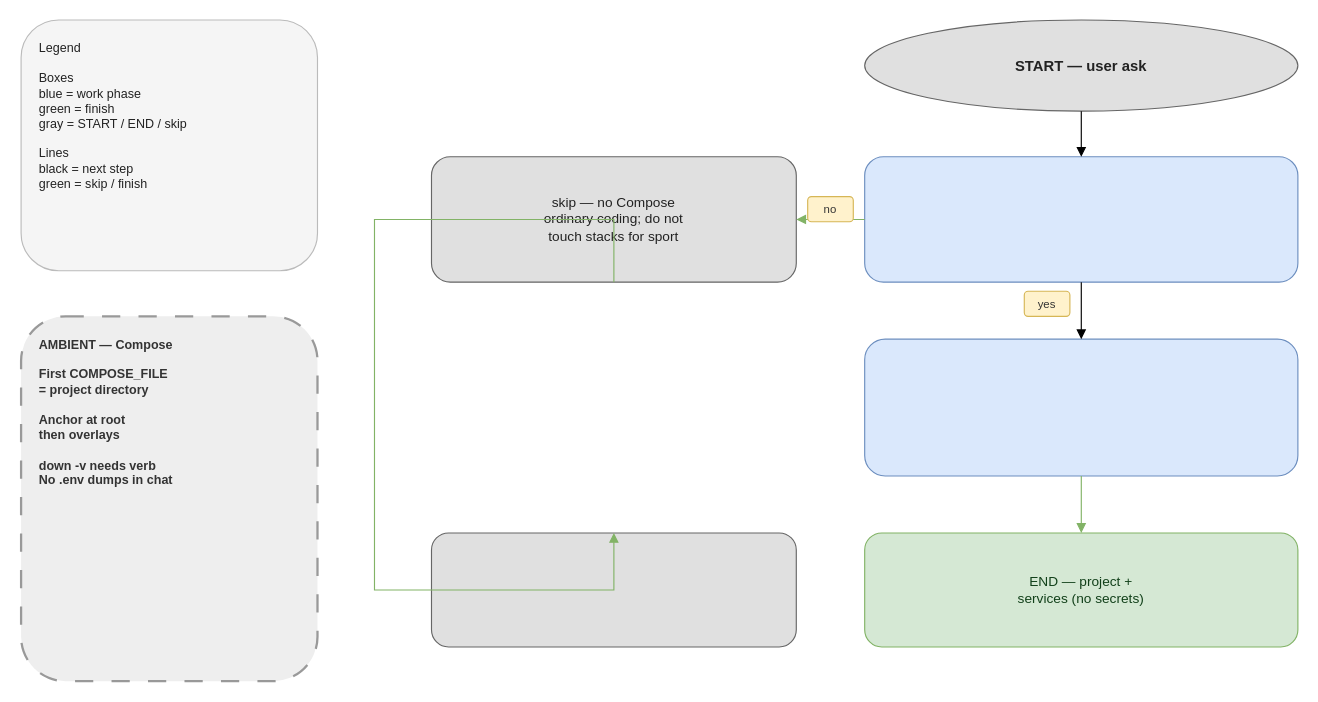
This 1318x702 diagram has some shape labels left out. The centre of each missing label's shape, as x and y in pixels:
"END — stay out" belongs at [613,589].
"gate · Compose work? docker compose / stack / overlay / profile ask" belongs at [1081,219].
"resolve dir → config ops via compose CLI; safety on down -v" belongs at [1081,407].
